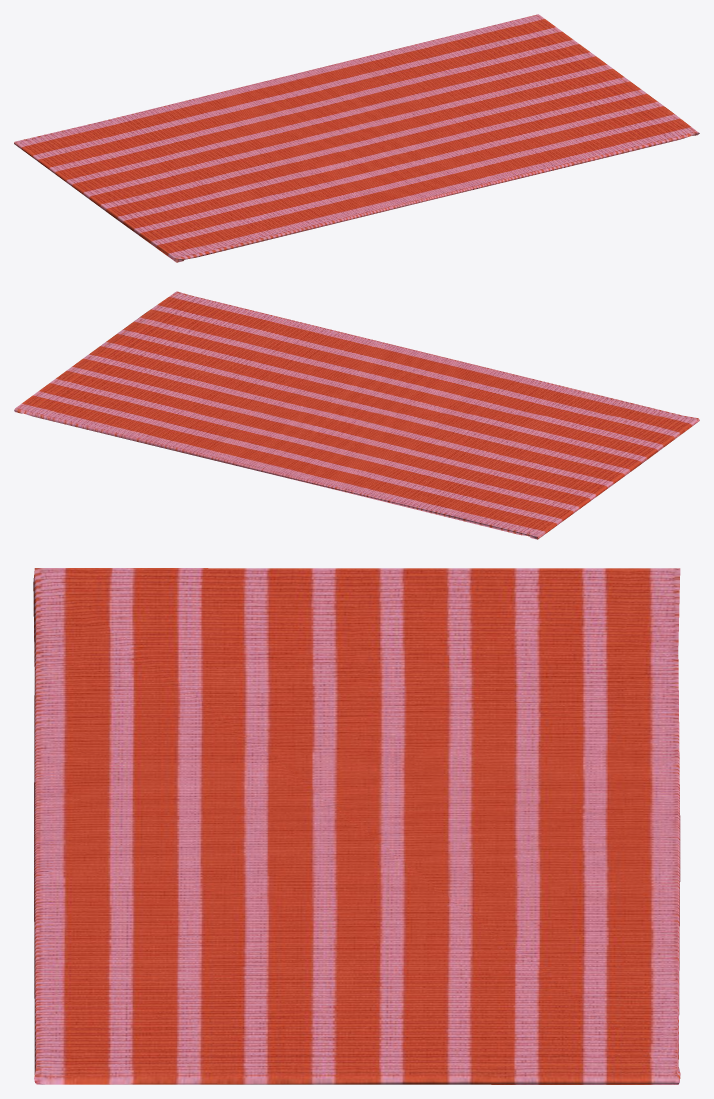
3 views of the same model, one above another, from view 1: azimuth 30°, elevation 25°; view 2: azimuth 150°, elevation 25°; view 3: azimuth 270°, elevation 25° (orthographic). The views are drawn at different scales.
Visible parts, largest first — view 1: ASY_ART_80587006_S01_NV01; view 2: ASY_ART_80587006_S01_NV01; view 3: ASY_ART_80587006_S01_NV01.
Boxes of the visible parts, left/top/right/bottom form: ASY_ART_80587006_S01_NV01: left=14, top=14, right=699, bottom=262; ASY_ART_80587006_S01_NV01: left=14, top=291, right=699, bottom=539; ASY_ART_80587006_S01_NV01: left=33, top=568, right=680, bottom=1084.
Bounding box in the file's own units: 1.5 × 0.0102 × 0.7995.
1 material, 1 textured.
